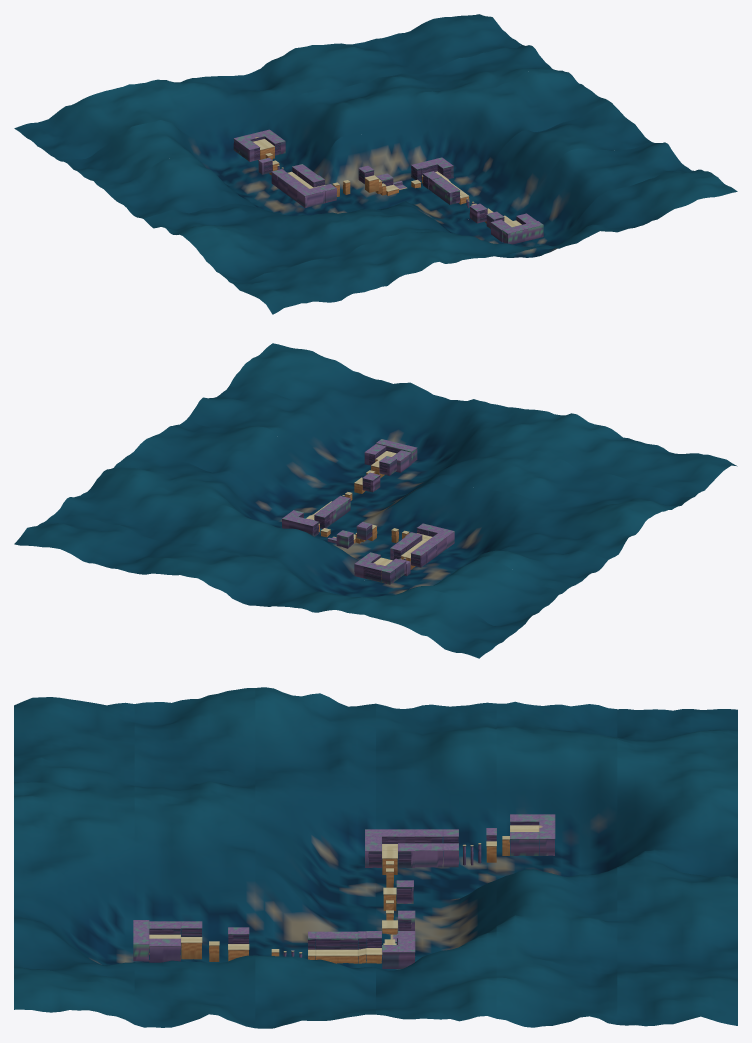
File: abyssal_trench_terrain.glb
3 views of the same model, one above another, from view 1: azimuth 30°, elevation 25°; view 2: azimuth 150°, elevation 25°; view 3: azimuth 270°, elevation 25° (orthographic). The views are drawn at different scales.
Visible parts, largest first — view 1: backdrop_5, backdrop_3, backdrop_4, backdrop_1, backdrop_0, backdrop_2, terrain_H, terrain_J, terrain_A, terrain_E, terrain_D, terrain_B (+1 smaller); view 2: backdrop_0, backdrop_2, backdrop_1, backdrop_4, backdrop_5, backdrop_3, terrain_H, terrain_J, terrain_A, terrain_E, terrain_B, terrain_D; view 3: backdrop_5, backdrop_0, backdrop_4, backdrop_2, backdrop_1, backdrop_3, terrain_H, terrain_D, terrain_A, terrain_J, terrain_E, terrain_B (+3 smaller).
Boxes of the visible parts, x1,y1,x2,y2 form: backdrop_5: (14,14,521,159); backdrop_3: (100,69,608,218); backdrop_4: (57,45,564,191); backdrop_1: (186,142,693,282); backdrop_0: (230,169,737,314); backdrop_2: (144,100,651,238); terrain_H: (271,164,325,207); terrain_J: (233,129,285,161); terrain_A: (490,213,543,244); terrain_E: (376,157,453,195); terrain_D: (423,171,469,204); terrain_B: (469,203,512,228); backdrop_0: (229,343,737,497); backdrop_2: (143,419,650,563); backdrop_1: (187,385,693,516); backdrop_4: (57,473,564,626); backdrop_5: (14,512,521,658); backdrop_3: (100,441,608,591); terrain_H: (390,526,454,569); terrain_J: (354,552,406,584); terrain_A: (364,439,417,472); terrain_E: (282,510,355,548); terrain_B: (354,456,396,493); terrain_D: (306,495,350,528); backdrop_5: (617,709,737,1026); backdrop_0: (14,697,134,1024); backdrop_4: (496,701,617,1027); backdrop_2: (255,687,375,1028); backdrop_1: (134,688,255,1028); backdrop_3: (376,702,496,1021); terrain_H: (365,829,458,867); terrain_D: (308,931,381,963); terrain_A: (133,920,180,962); terrain_J: (510,814,555,855); terrain_E: (382,910,415,968); terrain_B: (181,921,249,961).
Size of the model in its own units: 567 by 73.37 by 546.
